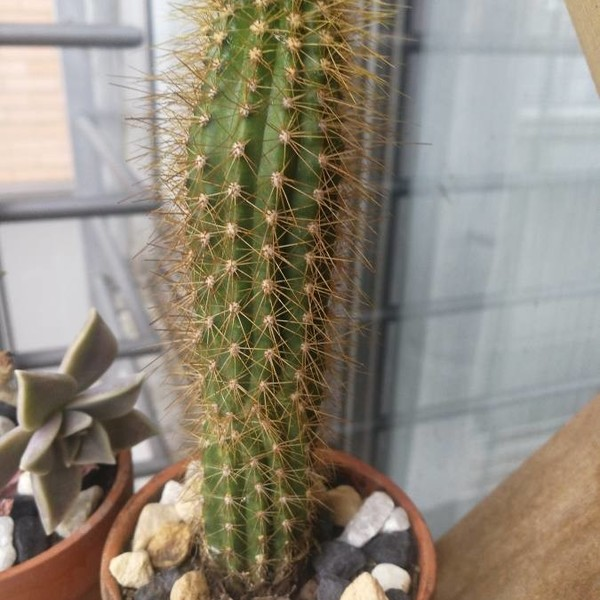obstacle: (132, 10, 440, 591)
